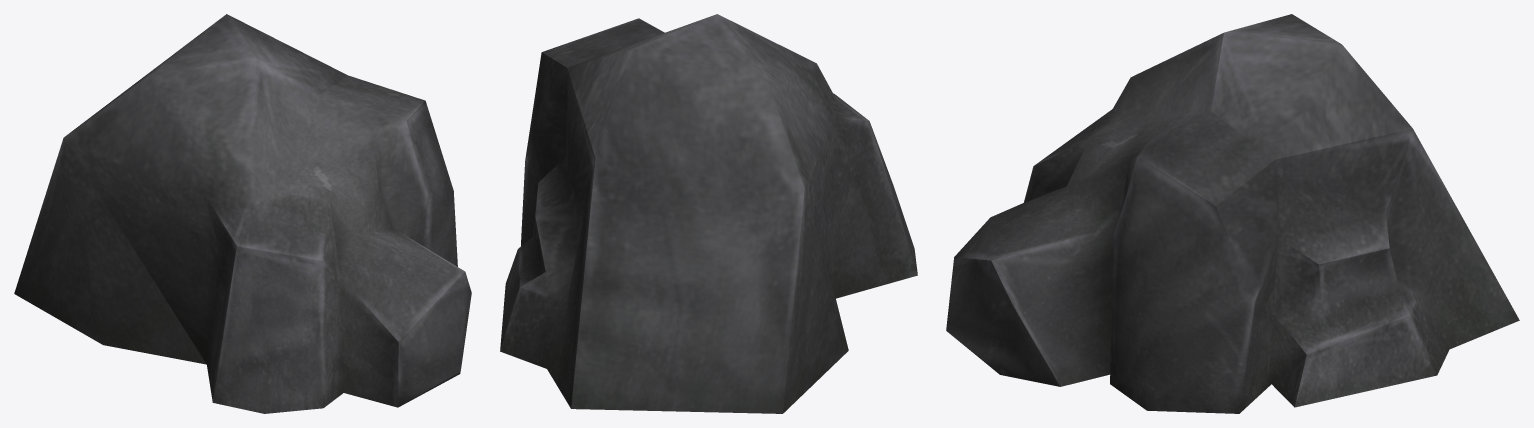
File: modelRock04.fbx
3 renders of one model, left to right at view 1: azimuth 30°, elevation 25°; view 2: azimuth 150°, elevation 25°; view 3: azimuth 270°, elevation 25°, orthographic. The views are drawn at different scales.
Parts seen in each view (by area): view 1: modelRock04; view 2: modelRock04; view 3: modelRock04.
Part boxes in pixels (<box>): modelRock04: <box>14,14,471,413</box>; modelRock04: <box>500,14,917,413</box>; modelRock04: <box>946,14,1519,413</box>.
Size of the model in its own units: 16.85 by 13.07 by 23.5.
